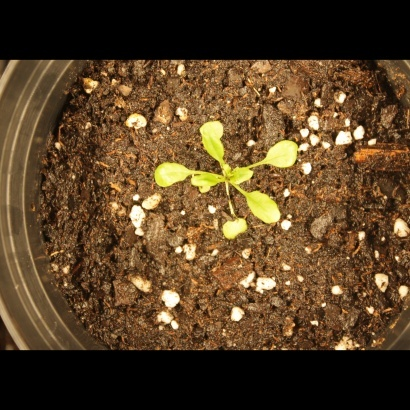leaf: (259, 134, 302, 171), (198, 118, 231, 164), (245, 189, 281, 231), (149, 159, 191, 190), (216, 216, 250, 244), (227, 166, 259, 189), (193, 170, 223, 193)
